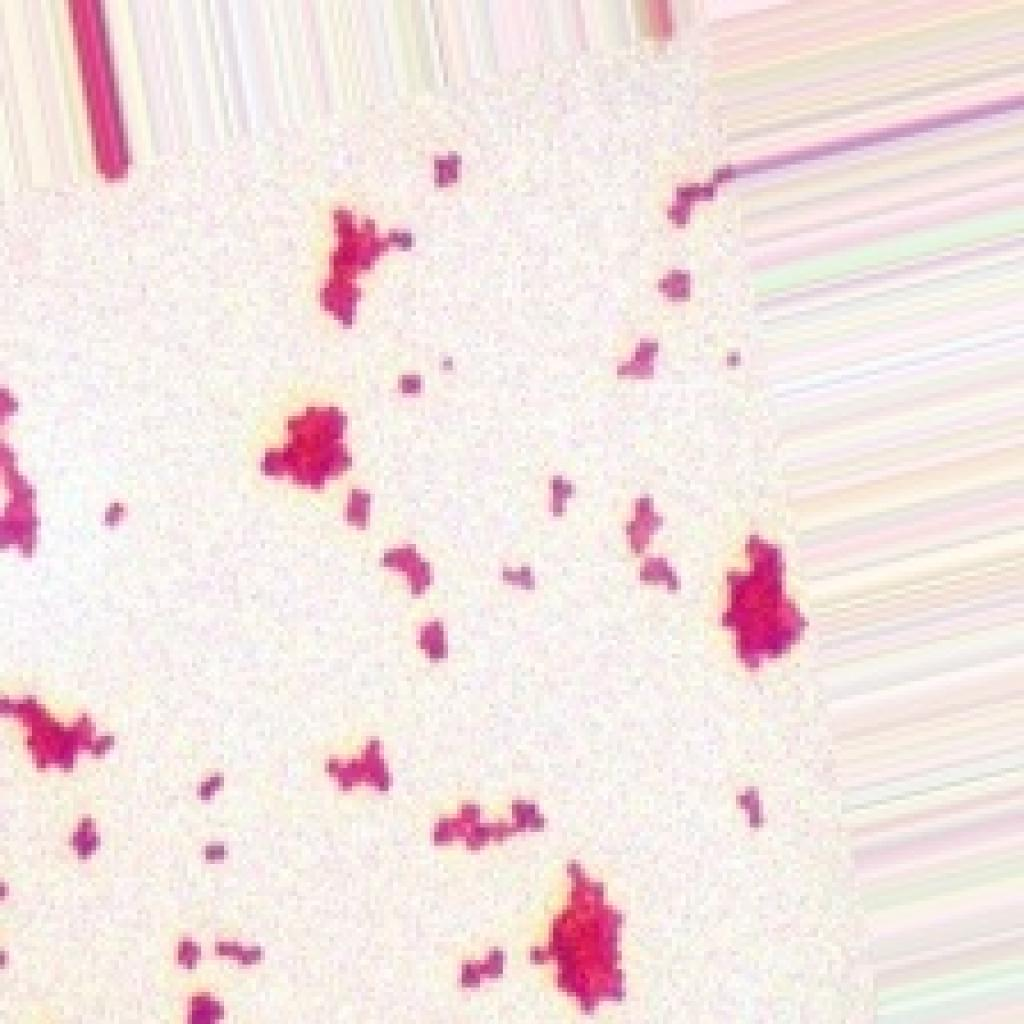Sphericalbacteria: (0, 36, 882, 1019)
